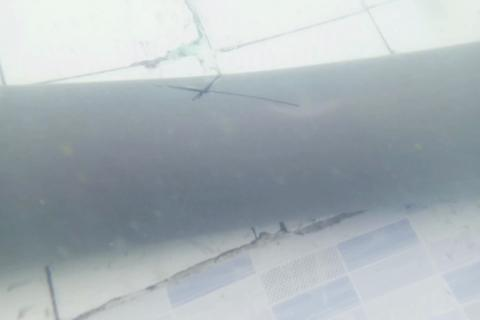keretakan: (151, 76, 299, 109)
